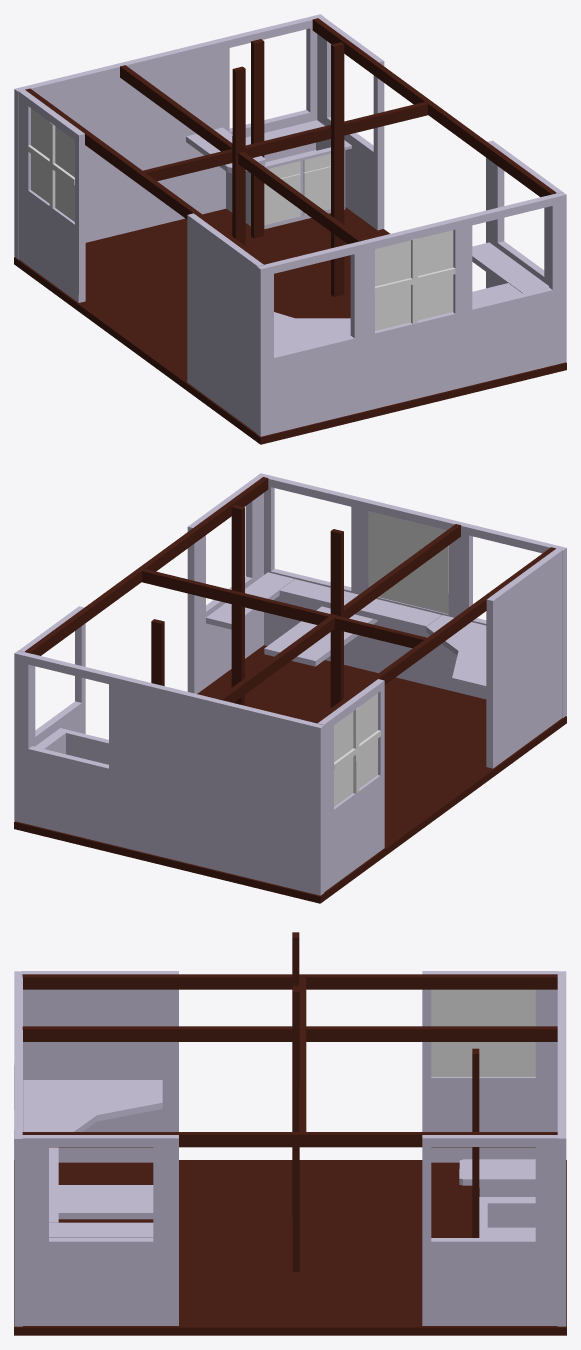
File: cesHouse 1.fbx
The picture shows the model from 3 angles, top to bottom: view 1: azimuth 30°, elevation 25°; view 2: azimuth 150°, elevation 25°; view 3: azimuth 270°, elevation 25°; orthographic projection. The views are drawn at different scales.
Visible parts, largest first — view 1: S_Wall, N_Wall, Floor, W_Wall, E_Wall, Window, CrossBeam, CrossBeam.002, centerBeam, TallBeam.001, Window2, CrossBeam.001 (+13 smaller); view 2: N_Wall, Floor, W_Wall, S_Wall, E_Wall, Window, centerBeam, CrossBeam, CrossBeam.002, Window2, CrossBeam.001, CounterLong (+9 smaller); view 3: Floor, E_Wall, W_Wall, CrossBeam.002, CrossBeam.001, Window2, CounterJointed, CrossBeam, N_Wall, CounterExtended, S_Wall, CounterSink (+8 smaller).
Boxes of the visible parts, left/top/right/bottom form: S_Wall: left=256, top=192, right=566, bottom=436; N_Wall: left=14, top=14, right=323, bottom=259; Floor: left=14, top=207, right=566, bottom=444; W_Wall: left=18, top=89, right=263, bottom=432; E_Wall: left=317, top=16, right=562, bottom=288; Window: left=375, top=230, right=453, bottom=330; CrossBeam: left=312, top=18, right=556, bottom=197; CrossBeam.002: left=120, top=65, right=363, bottom=243; centerBeam: left=143, top=102, right=427, bottom=181; TallBeam.001: left=331, top=42, right=344, bottom=296; Window2: left=31, top=108, right=74, bottom=221; CrossBeam.001: left=25, top=88, right=268, bottom=264; N_Wall: left=14, top=651, right=324, bottom=895; Floor: left=14, top=645, right=566, bottom=903; W_Wall: left=317, top=548, right=562, bottom=891; S_Wall: left=258, top=473, right=566, bottom=717; E_Wall: left=18, top=475, right=263, bottom=746; Window: left=368, top=511, right=448, bottom=614; centerBeam: left=142, top=569, right=426, bottom=648; CrossBeam: left=25, top=477, right=268, bottom=655; CrossBeam.002: left=217, top=524, right=461, bottom=702; Window2: left=334, top=693, right=377, bottom=806; CrossBeam.001: left=313, top=547, right=555, bottom=723; CounterLong: left=279, top=579, right=441, bottom=631; Floor: left=14, top=1160, right=566, bottom=1335; E_Wall: left=21, top=1134, right=558, bottom=1325; W_Wall: left=21, top=971, right=558, bottom=1162; CrossBeam.002: left=22, top=1026, right=557, bottom=1041; CrossBeam.001: left=22, top=974, right=557, bottom=989; Window2: left=431, top=989, right=535, bottom=1076; CounterJointed: left=23, top=1080, right=162, bottom=1147; CrossBeam: left=22, top=1132, right=557, bottom=1147; N_Wall: left=557, top=971, right=566, bottom=1326; CounterExtended: left=58, top=1185, right=153, bottom=1219; S_Wall: left=14, top=971, right=22, bottom=1326; CounterSink: left=459, top=1159, right=535, bottom=1196.
Bounding box in the file's own units: 2282 × 1840 × 3181.
